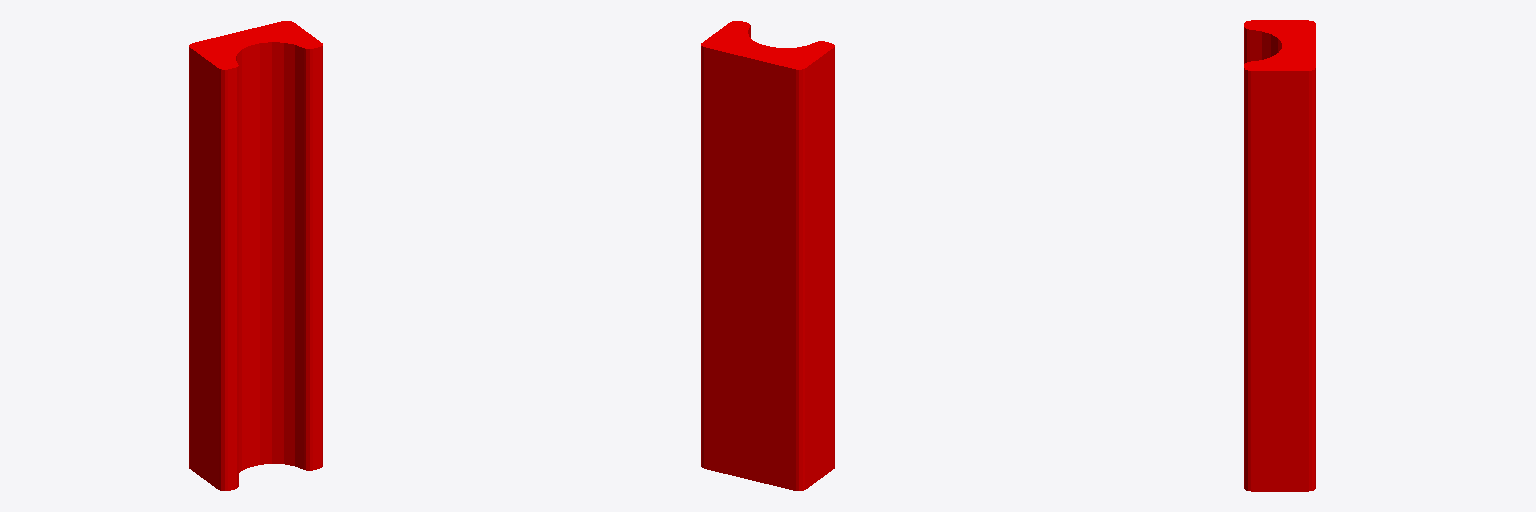
URDF robot description (Small_Long_Arch_Red):
<?xml version="1.0"?>
<robot name="Small_Long_Arch_Red">
    <link name="Small_Long_Arch_Red">
        <visual>
            <geometry>
                <mesh filename="../mesh/factory_insertion/Small_Long_Arch_Red.obj" scale="0.001 0.001 0.001"/>
            </geometry>
            <material name="Red">
              <color rgba="1.0 0 0 0"/>
            </material>
        </visual>
        <collision>
            <geometry>
                <mesh filename="../mesh/factory_insertion/Small_Long_Arch_Red.obj" scale="0.001 0.001 0.001"/>
            </geometry>
            <sdf resolution="512"/>
        </collision>
    </link>
</robot>

--- Render facts (derived) ---
The picture shows the robot from 3 angles, left to right: view 1: azimuth 30°, elevation 25°; view 2: azimuth 150°, elevation 25°; view 3: azimuth 270°, elevation 25°; orthographic projection.
Model Small_Long_Arch_Red with 1 links and 0 joints (none), rooted at Small_Long_Arch_Red, posed every joint at zero.
Visible links, largest first — view 1: Small_Long_Arch_Red; view 2: Small_Long_Arch_Red; view 3: Small_Long_Arch_Red.
Boxes of the visible links, box(x1,y1,x2,y2) form: Small_Long_Arch_Red: box(189, 21, 322, 490); Small_Long_Arch_Red: box(701, 21, 834, 490); Small_Long_Arch_Red: box(1244, 20, 1315, 491).
Size in the robot's own frame: 0.0386 by 0.0232 by 0.15 metres.
Meshes: 1 distinct files referenced, 1 mesh visuals loaded (1 OBJ).
